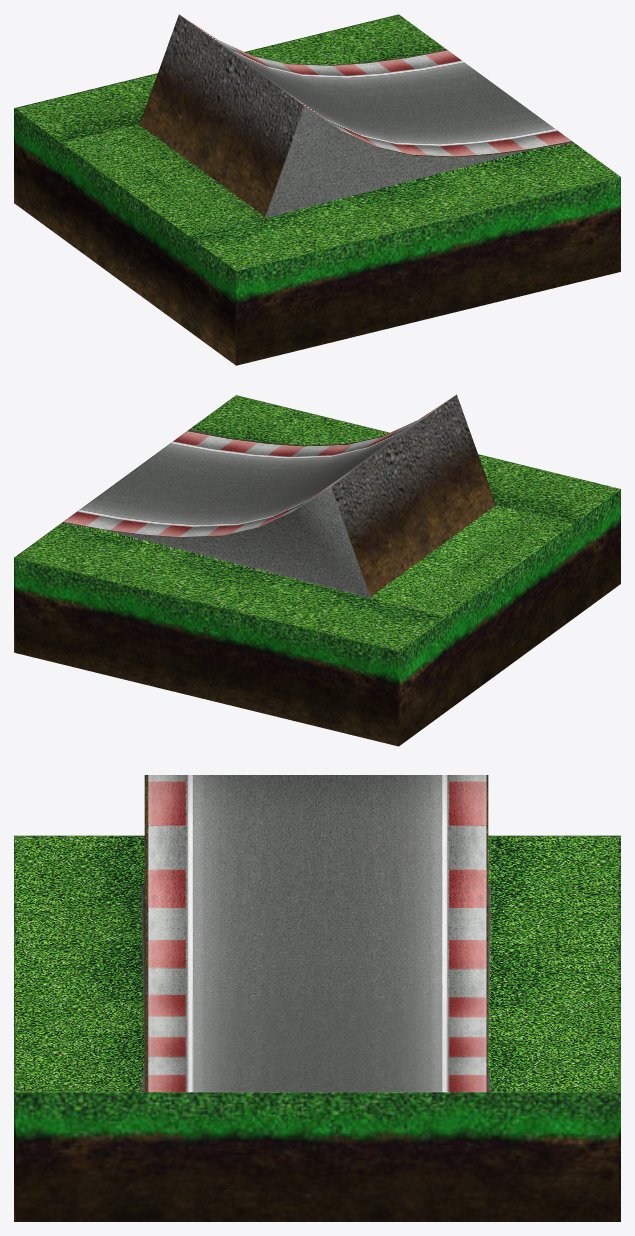
The model's file is road ramp 1 .fbx.
3 views of the same model, one above another, from view 1: azimuth 30°, elevation 25°; view 2: azimuth 150°, elevation 25°; view 3: azimuth 270°, elevation 25° (orthographic). The views are drawn at different scales.
Parts seen in each view (by area): view 1: road ramp 1; view 2: road ramp 1; view 3: road ramp 1.
Boxes of the visible parts, x1,y1,x2,y2 form: road ramp 1: (14,14,620,365); road ramp 1: (14,394,620,746); road ramp 1: (14,775,620,1221).
Bounding box in the file's own units: 390 × 190 × 390.
